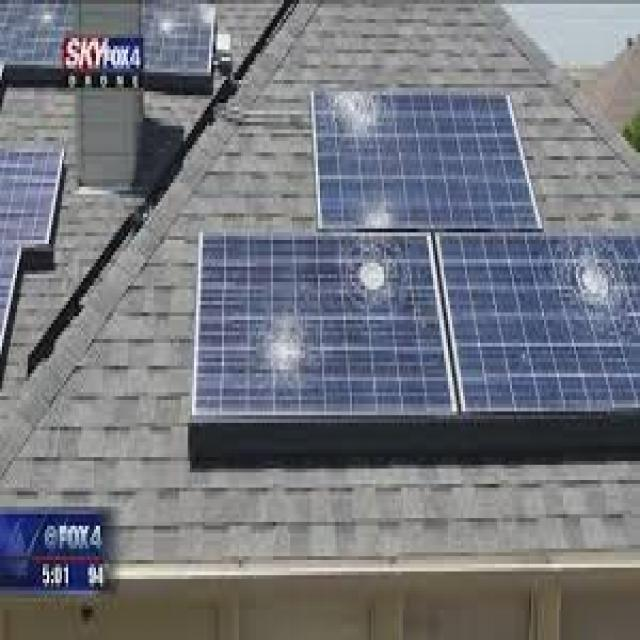faulty: (200, 232, 442, 444), (442, 236, 636, 435), (311, 90, 533, 232)
